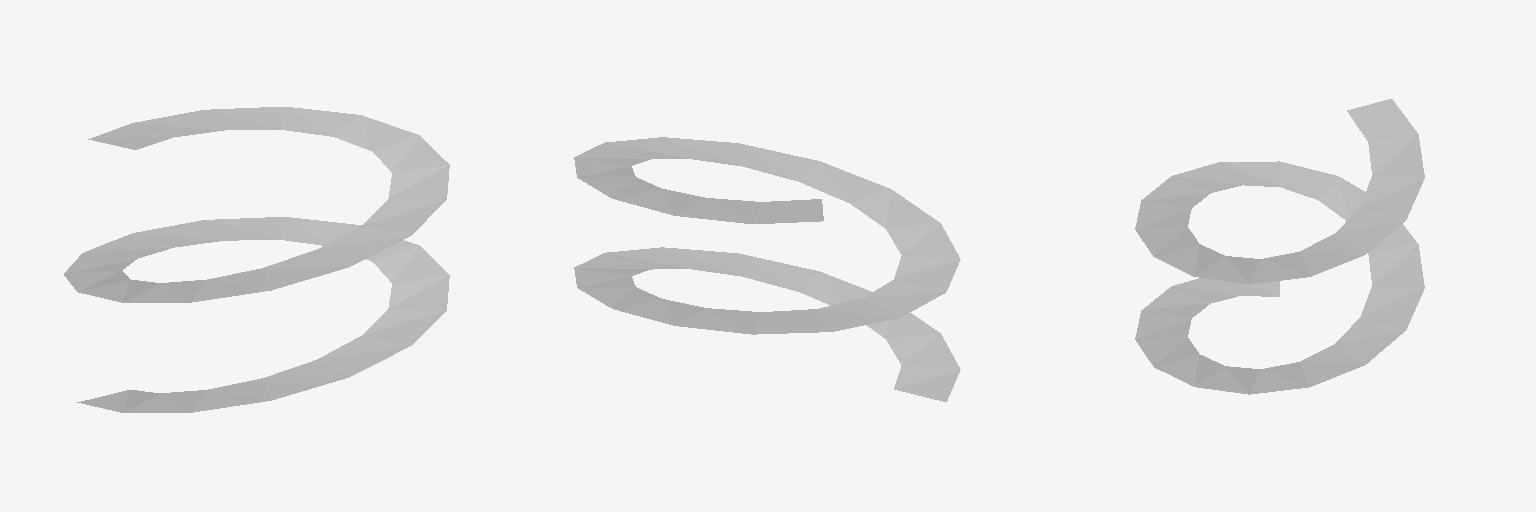
The picture shows the model from 3 angles: view 1: azimuth 30°, elevation 25°; view 2: azimuth 150°, elevation 25°; view 3: azimuth 270°, elevation 25°; orthographic projection.
Visible parts, largest first — view 1: pHelix3; view 2: pHelix3; view 3: pHelix3.
Boxes of the visible parts, box(x1,y1,x2,y2) form: pHelix3: box(64, 107, 449, 412); pHelix3: box(574, 137, 960, 401); pHelix3: box(1135, 99, 1424, 394).
Size of the model in its own units: 136 by 74.7 by 95.42.